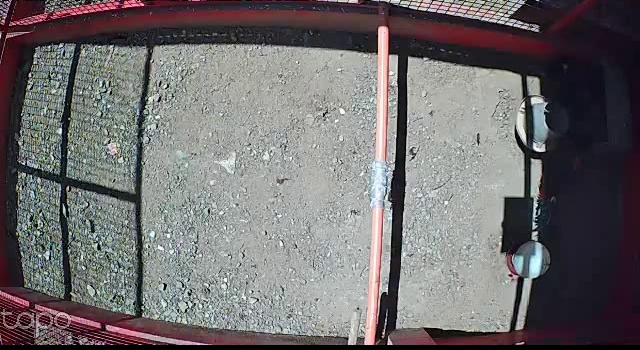Drinker: (506, 237, 553, 280)
Feeder: (516, 94, 572, 155)
